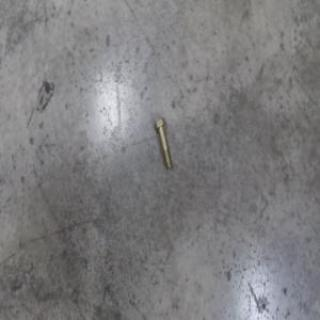Bolttrack_idkeyframe: (148, 119, 168, 172)
